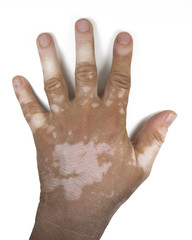vitiligo: (18, 39, 157, 195)
